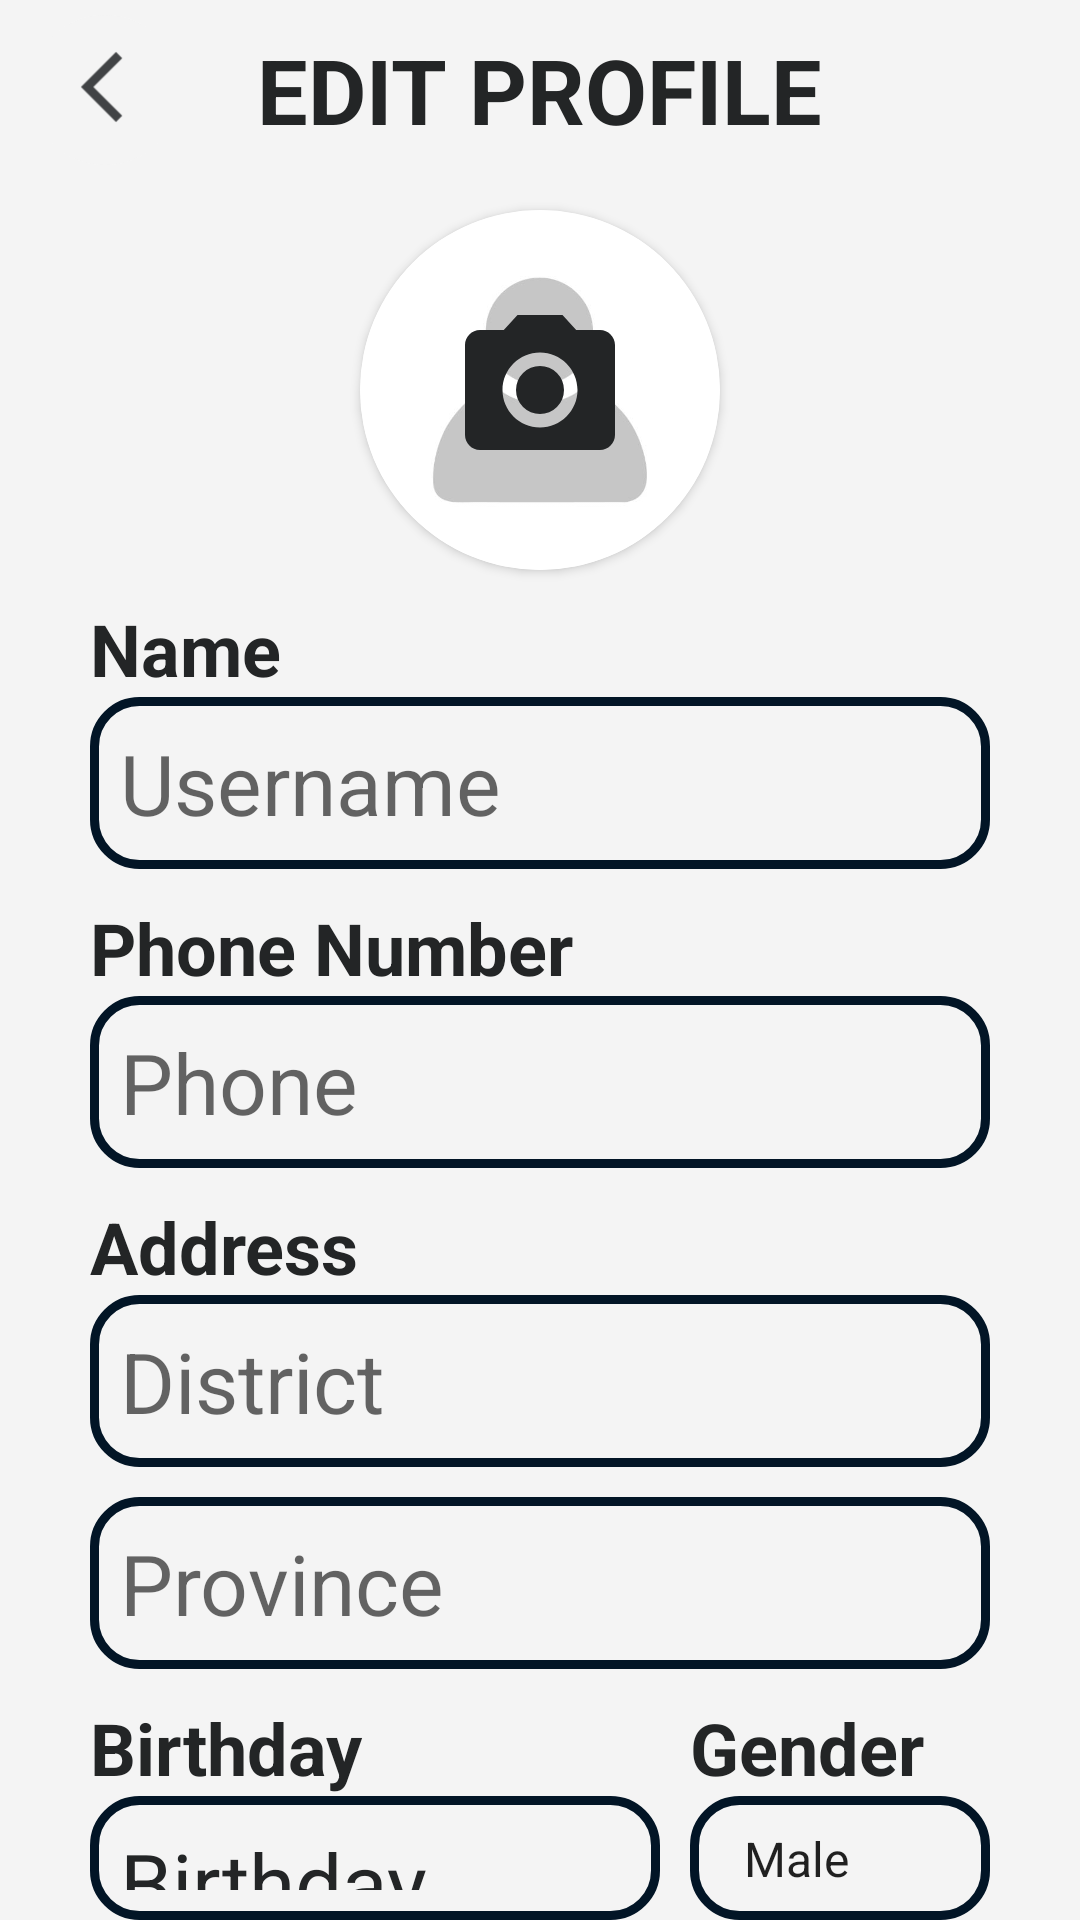

Named icons in this screenshot (1080x1920) and their centers, [x,y]:
back: [101,87]
photo camera: [540,390]
